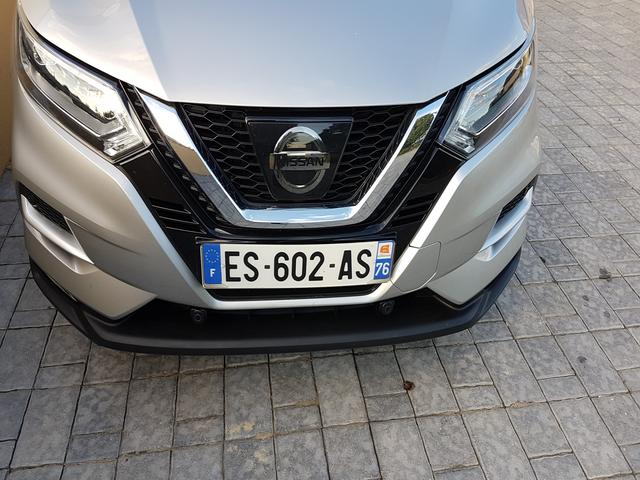Quashquai: (167, 209, 418, 309)
